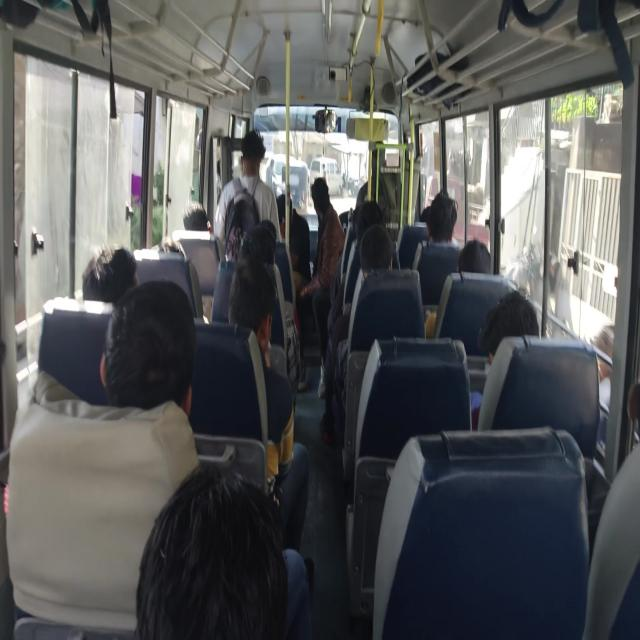person: (159, 447, 279, 640), (112, 279, 220, 434), (568, 344, 640, 489), (223, 244, 273, 336), (92, 235, 154, 308), (480, 309, 540, 373), (302, 166, 352, 238), (460, 233, 500, 288), (236, 217, 273, 269), (360, 233, 397, 284), (430, 196, 460, 253), (234, 127, 261, 190), (347, 199, 392, 234), (180, 204, 218, 244), (160, 227, 195, 265), (276, 192, 302, 240), (415, 202, 441, 238), (255, 217, 272, 230)
